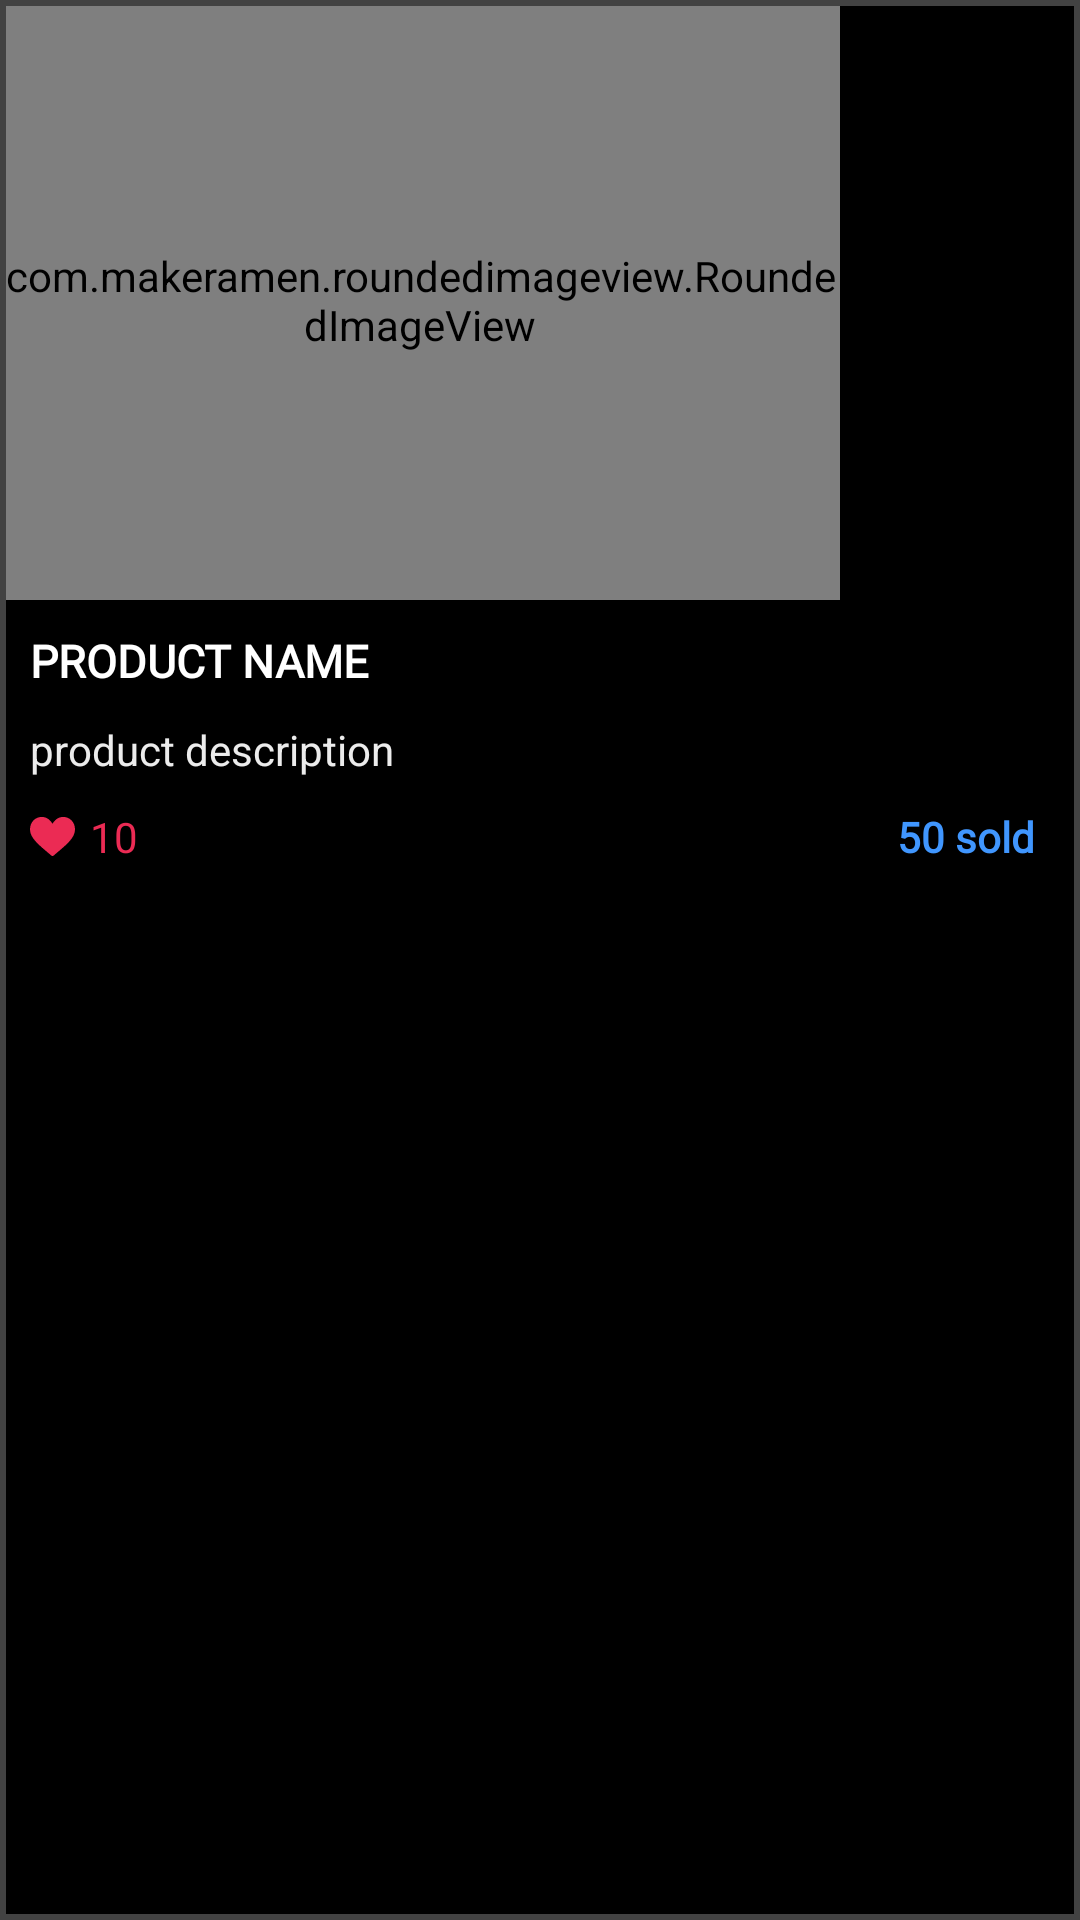

Where icons sit on this 1080w x 1920h app screen, as [left=x1, top=y1, right=x2, bottom=y2]:
heart: [left=30, top=817, right=75, bottom=856]
